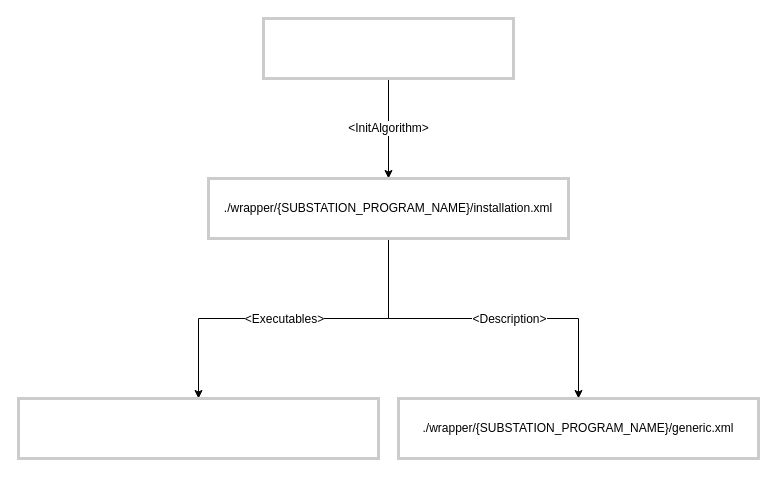
Some shapes in this 777 by 477 pixel diagram are drawn without their labels. Here are the shapes that lost their labels. From the top down, the centre of each, then its label:
At (x=388, y=48): "./station/{STATION_NAME}/station.cfgfile".
At (x=198, y=428): "./../../path/to/executable/script.py.sh.whatever".
